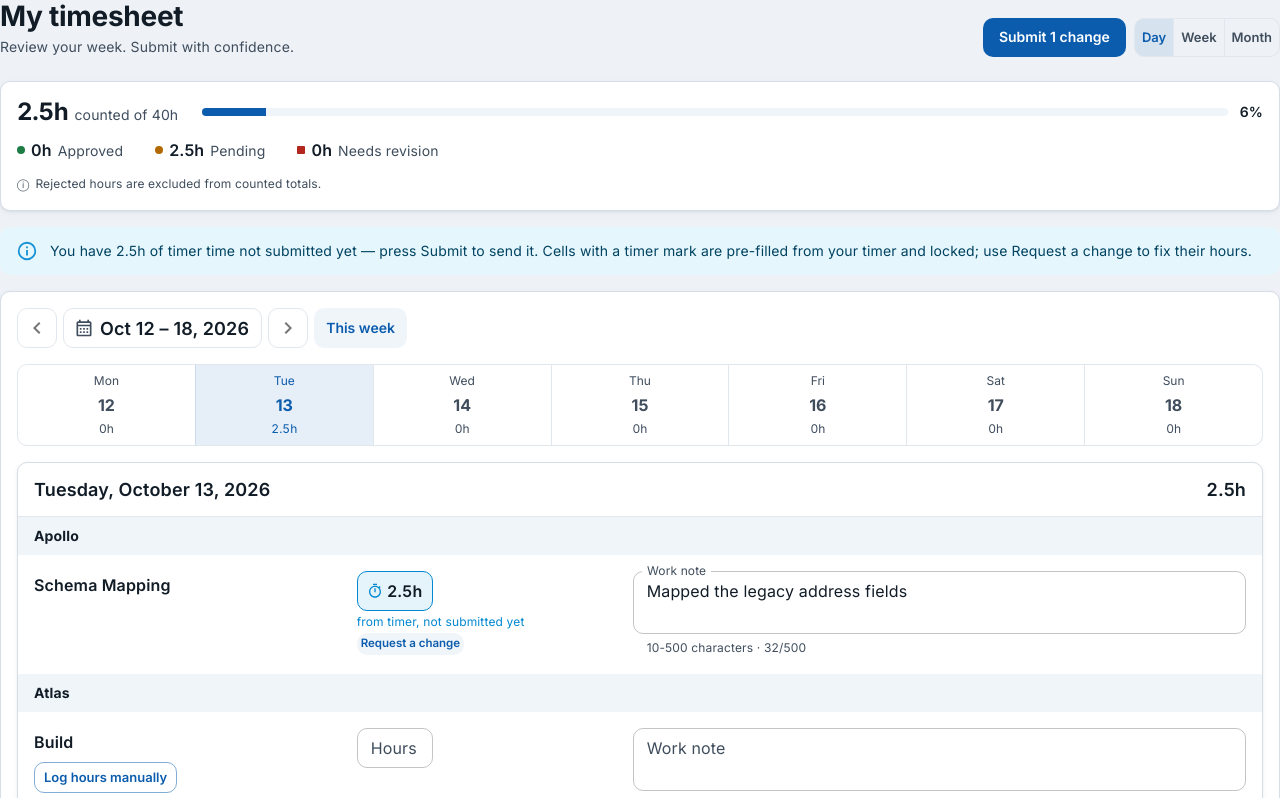
Test: Timesheet day view › timer hours show locked with Request a change
The width and height of the screenshot is (1280, 798).
Expected: the element named "Schema Mapping, Tue Oct 13: 2.5h, locked timer hours" reads "2.5h", [387, 581, 422, 601]
Expected: the field labelled "Schema Mapping, Tue Oct 13" is not shown
Click the button with aria-label "Request a change, Schema Mapping, Tue Oct 13" at {"x": 410, "y": 644}, box [357, 633, 464, 655]
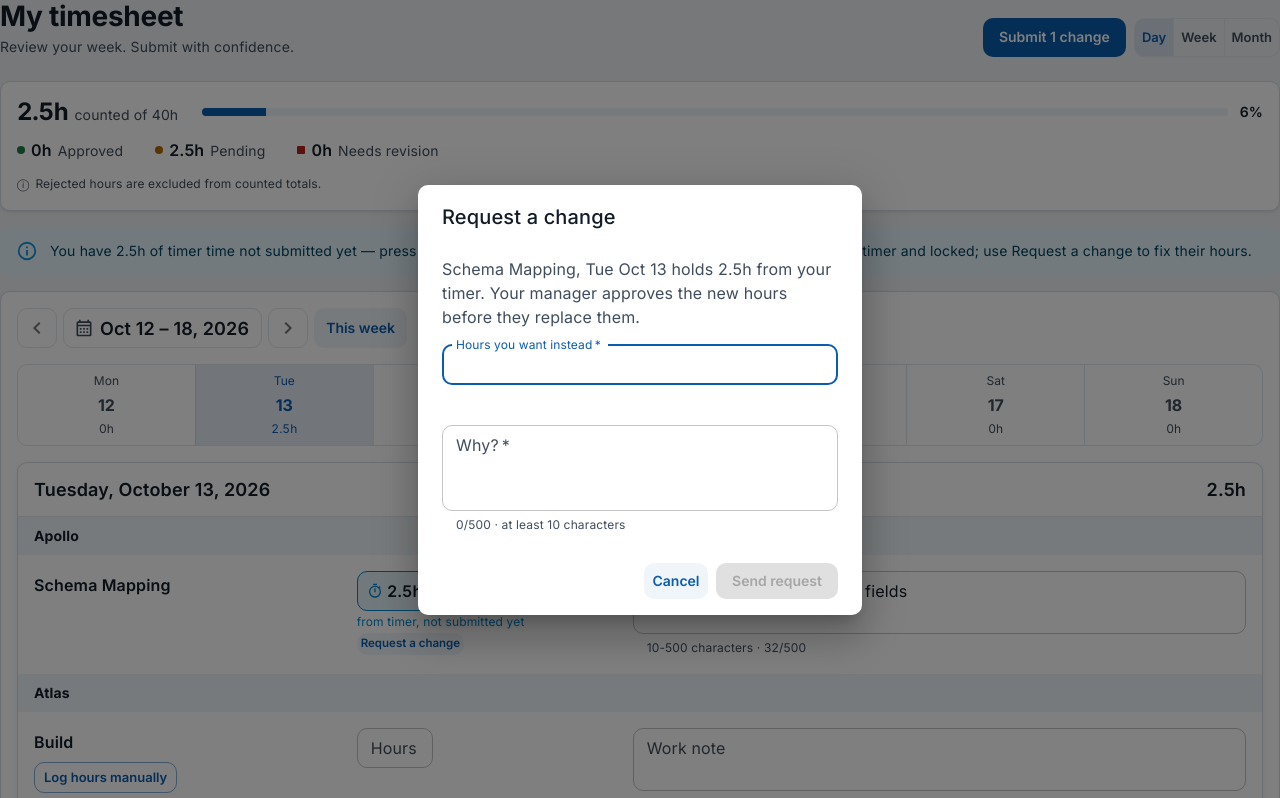
Result: the dialog "Request a change" is shown at [418, 185, 862, 615]
